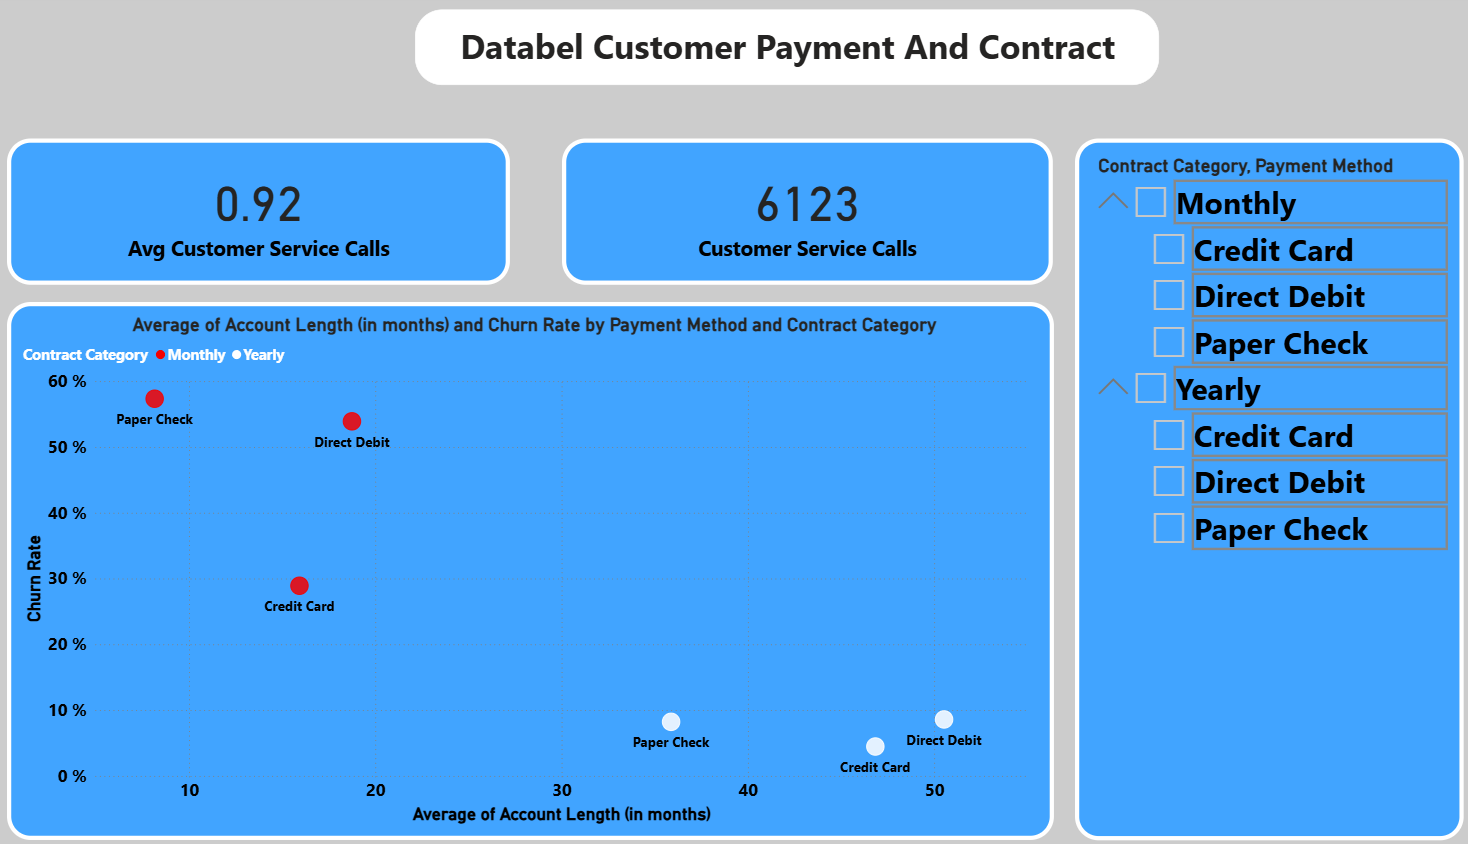

Layout of this report page (visuals, bound fields, positions):
{"tool":"powerbi","page":{"name":"Payment and Contract","canvas":[1640,960],"ordinal":3},"visuals":[{"type":"card","fields":{"Values":["Sum(Databel - Data.Customer Service Calls)"]},"box":[632.5,161,541.3,161],"z":0},{"type":"card","fields":{"Values":["Databel - Data.Avg Customer Service Calls"]},"box":[19.4,161,554.9,161],"z":1000},{"type":"scatterChart","fields":{"Y":["Databel - Data.Churn Rate"],"X":["Databel - Data.Account Length (in months)"],"Category":["Databel - Data.Payment Method"],"Series":["Databel - Data.Contract Category"]},"box":[19.4,341.5,1154.3,593.7],"z":2000},{"type":"slicer","fields":{"Values":["Databel - Data.Contract Category","Databel - Data.Payment Method"]},"box":[1197,161,428.8,774.1],"z":3000},{"type":"textbox","box":[469.5,17.5,820.7,83.4],"z":4000}]}

Visuals, with their boxes in screenshot pixels (x1, y1, x2, y2), scaled from the page's 1640x960 canvas onto the 1468x844 screenshot:
card - Sum(Databel - Data.Customer Service Calls): 566:142:1051:283
card - Databel - Data.Avg Customer Service Calls: 17:142:514:283
scatterChart - Databel - Data.Churn Rate x Databel - Data.Account Length (in months): 17:300:1051:822
slicer - Databel - Data.Contract Category x Databel - Data.Payment Method: 1071:142:1455:822
textbox: 420:15:1155:89
